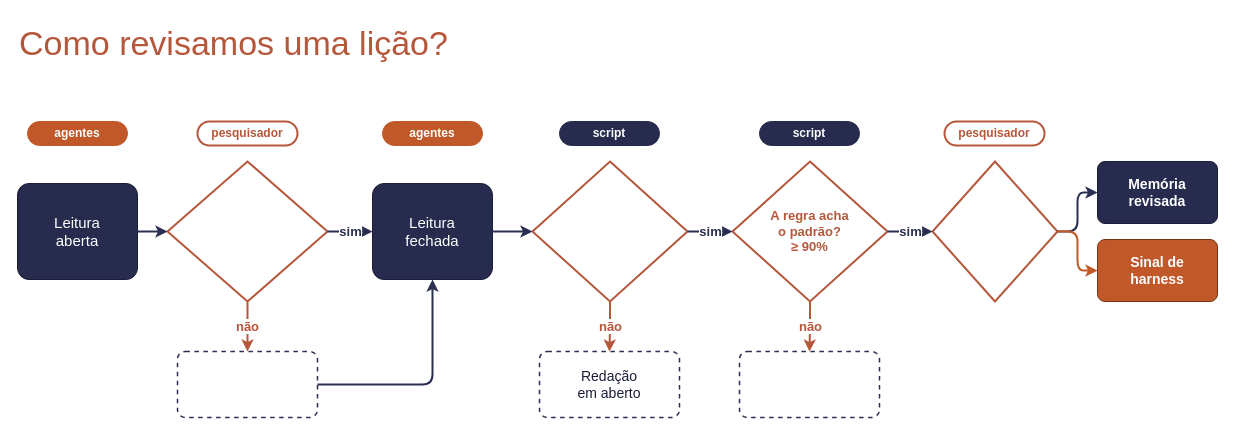
Image size: 1235x435. Some labels were removed from this diagram. The centre of each missing label's shape, as x and y in pixels:
"A lista de lições está boa?" goes at point 247,231.
"Edita a lista" goes at point 247,384.
"Os leitores concordam? kappa ≥ 0,6" goes at point 609,231.
"Padrão não confirmado" goes at point 809,384.
"Qual destino?" goes at point 994,231.
